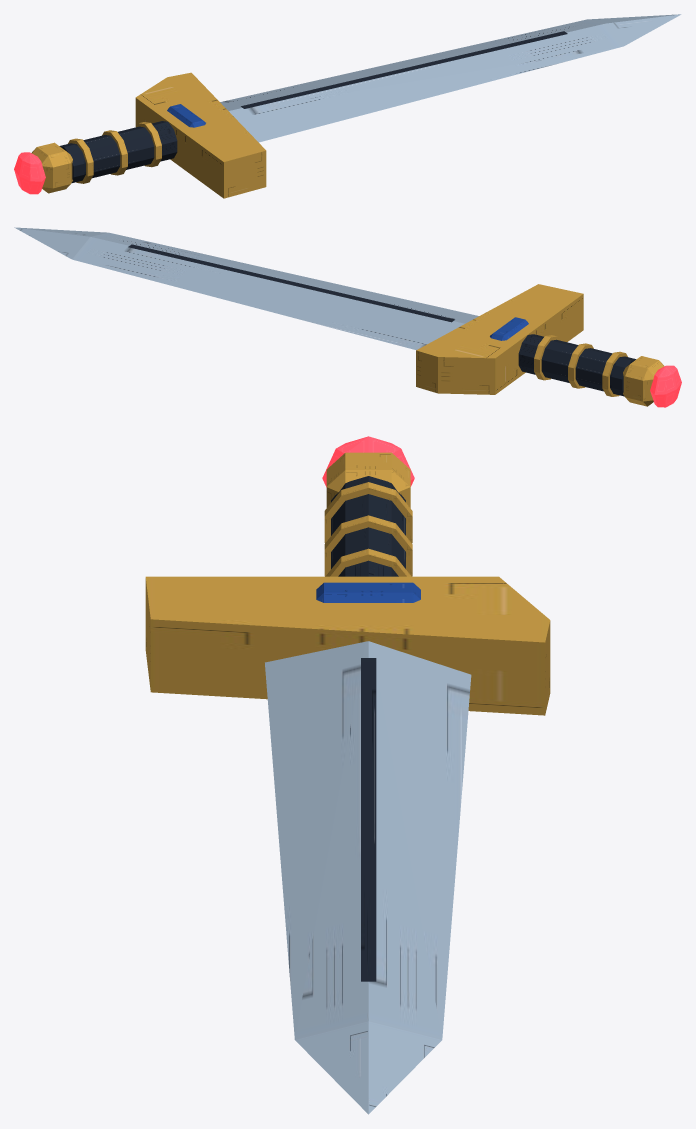
The model's file is brand.glb.
The picture shows the model from 3 angles, top to bottom: view 1: azimuth 30°, elevation 25°; view 2: azimuth 150°, elevation 25°; view 3: azimuth 270°, elevation 25°; orthographic projection. The views are drawn at different scales.
Visible parts, largest first — view 1: blade, guard, grip; view 2: blade, guard, grip; view 3: blade, guard, grip.
Part boxes in pixels (x1,y1,x2,y2): blade: (220,14,681,142); guard: (135,72,266,198); grip: (14,121,177,194); blade: (14,227,478,350); guard: (416,284,583,394); grip: (518,334,681,407); blade: (265,641,471,1114); guard: (145,576,550,715); grip: (322,436,414,576).
Bounding box in the file's own units: 0.8929 × 0.056 × 0.236.
5 materials, 5 textured.
